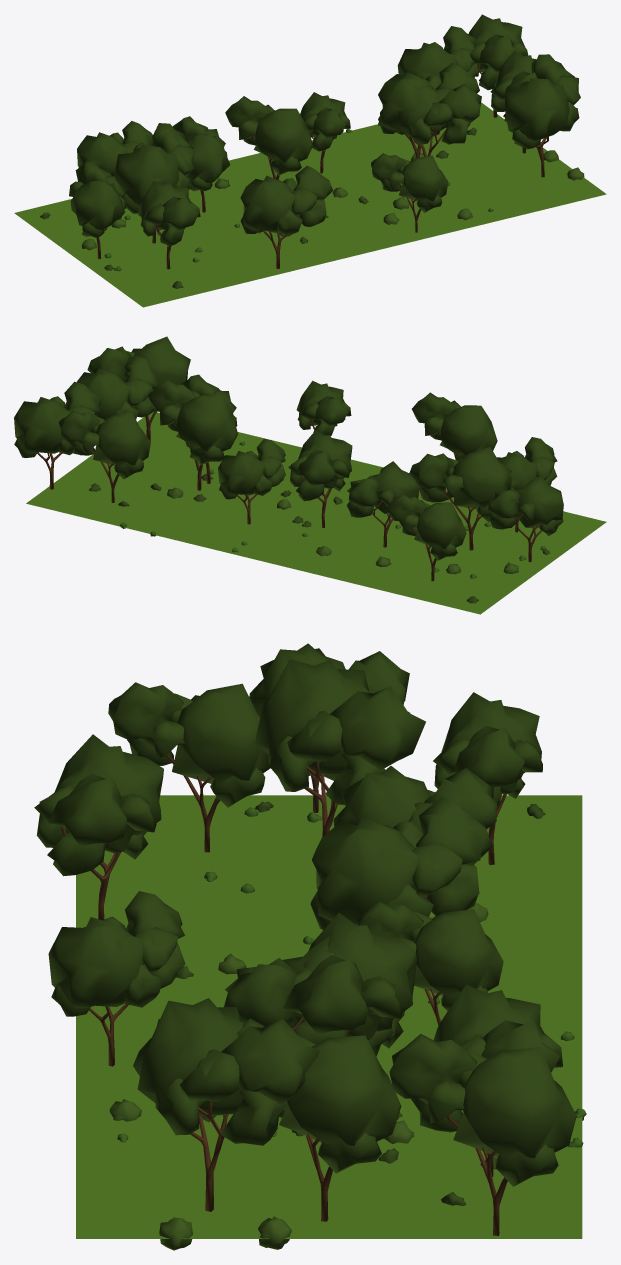
The model's file is nature_left1.glb.
3 views of the same model, one above another, from view 1: azimuth 30°, elevation 25°; view 2: azimuth 150°, elevation 25°; view 3: azimuth 270°, elevation 25° (orthographic). The views are drawn at different scales.
Parts seen in each view (by area): view 1: Scatter.014, ground.004, Scatter.015; view 2: Scatter.014, ground.004, Scatter.015; view 3: Scatter.014, ground.004, Scatter.015.
Boxes of the visible parts, <box> form: Scatter.014: <box>69,14,580,269</box>; ground.004: <box>14,102,606,307</box>; Scatter.015: <box>40,122,584,288</box>; Scatter.014: <box>14,336,563,581</box>; ground.004: <box>26,411,606,614</box>; Scatter.015: <box>89,441,550,603</box>; Scatter.014: <box>34,643,576,1235</box>; ground.004: <box>76,795,582,1238</box>; Scatter.015: <box>109,801,586,1250</box>.
Bounding box in the file's own units: 60.51 × 12.95 × 29.49.
